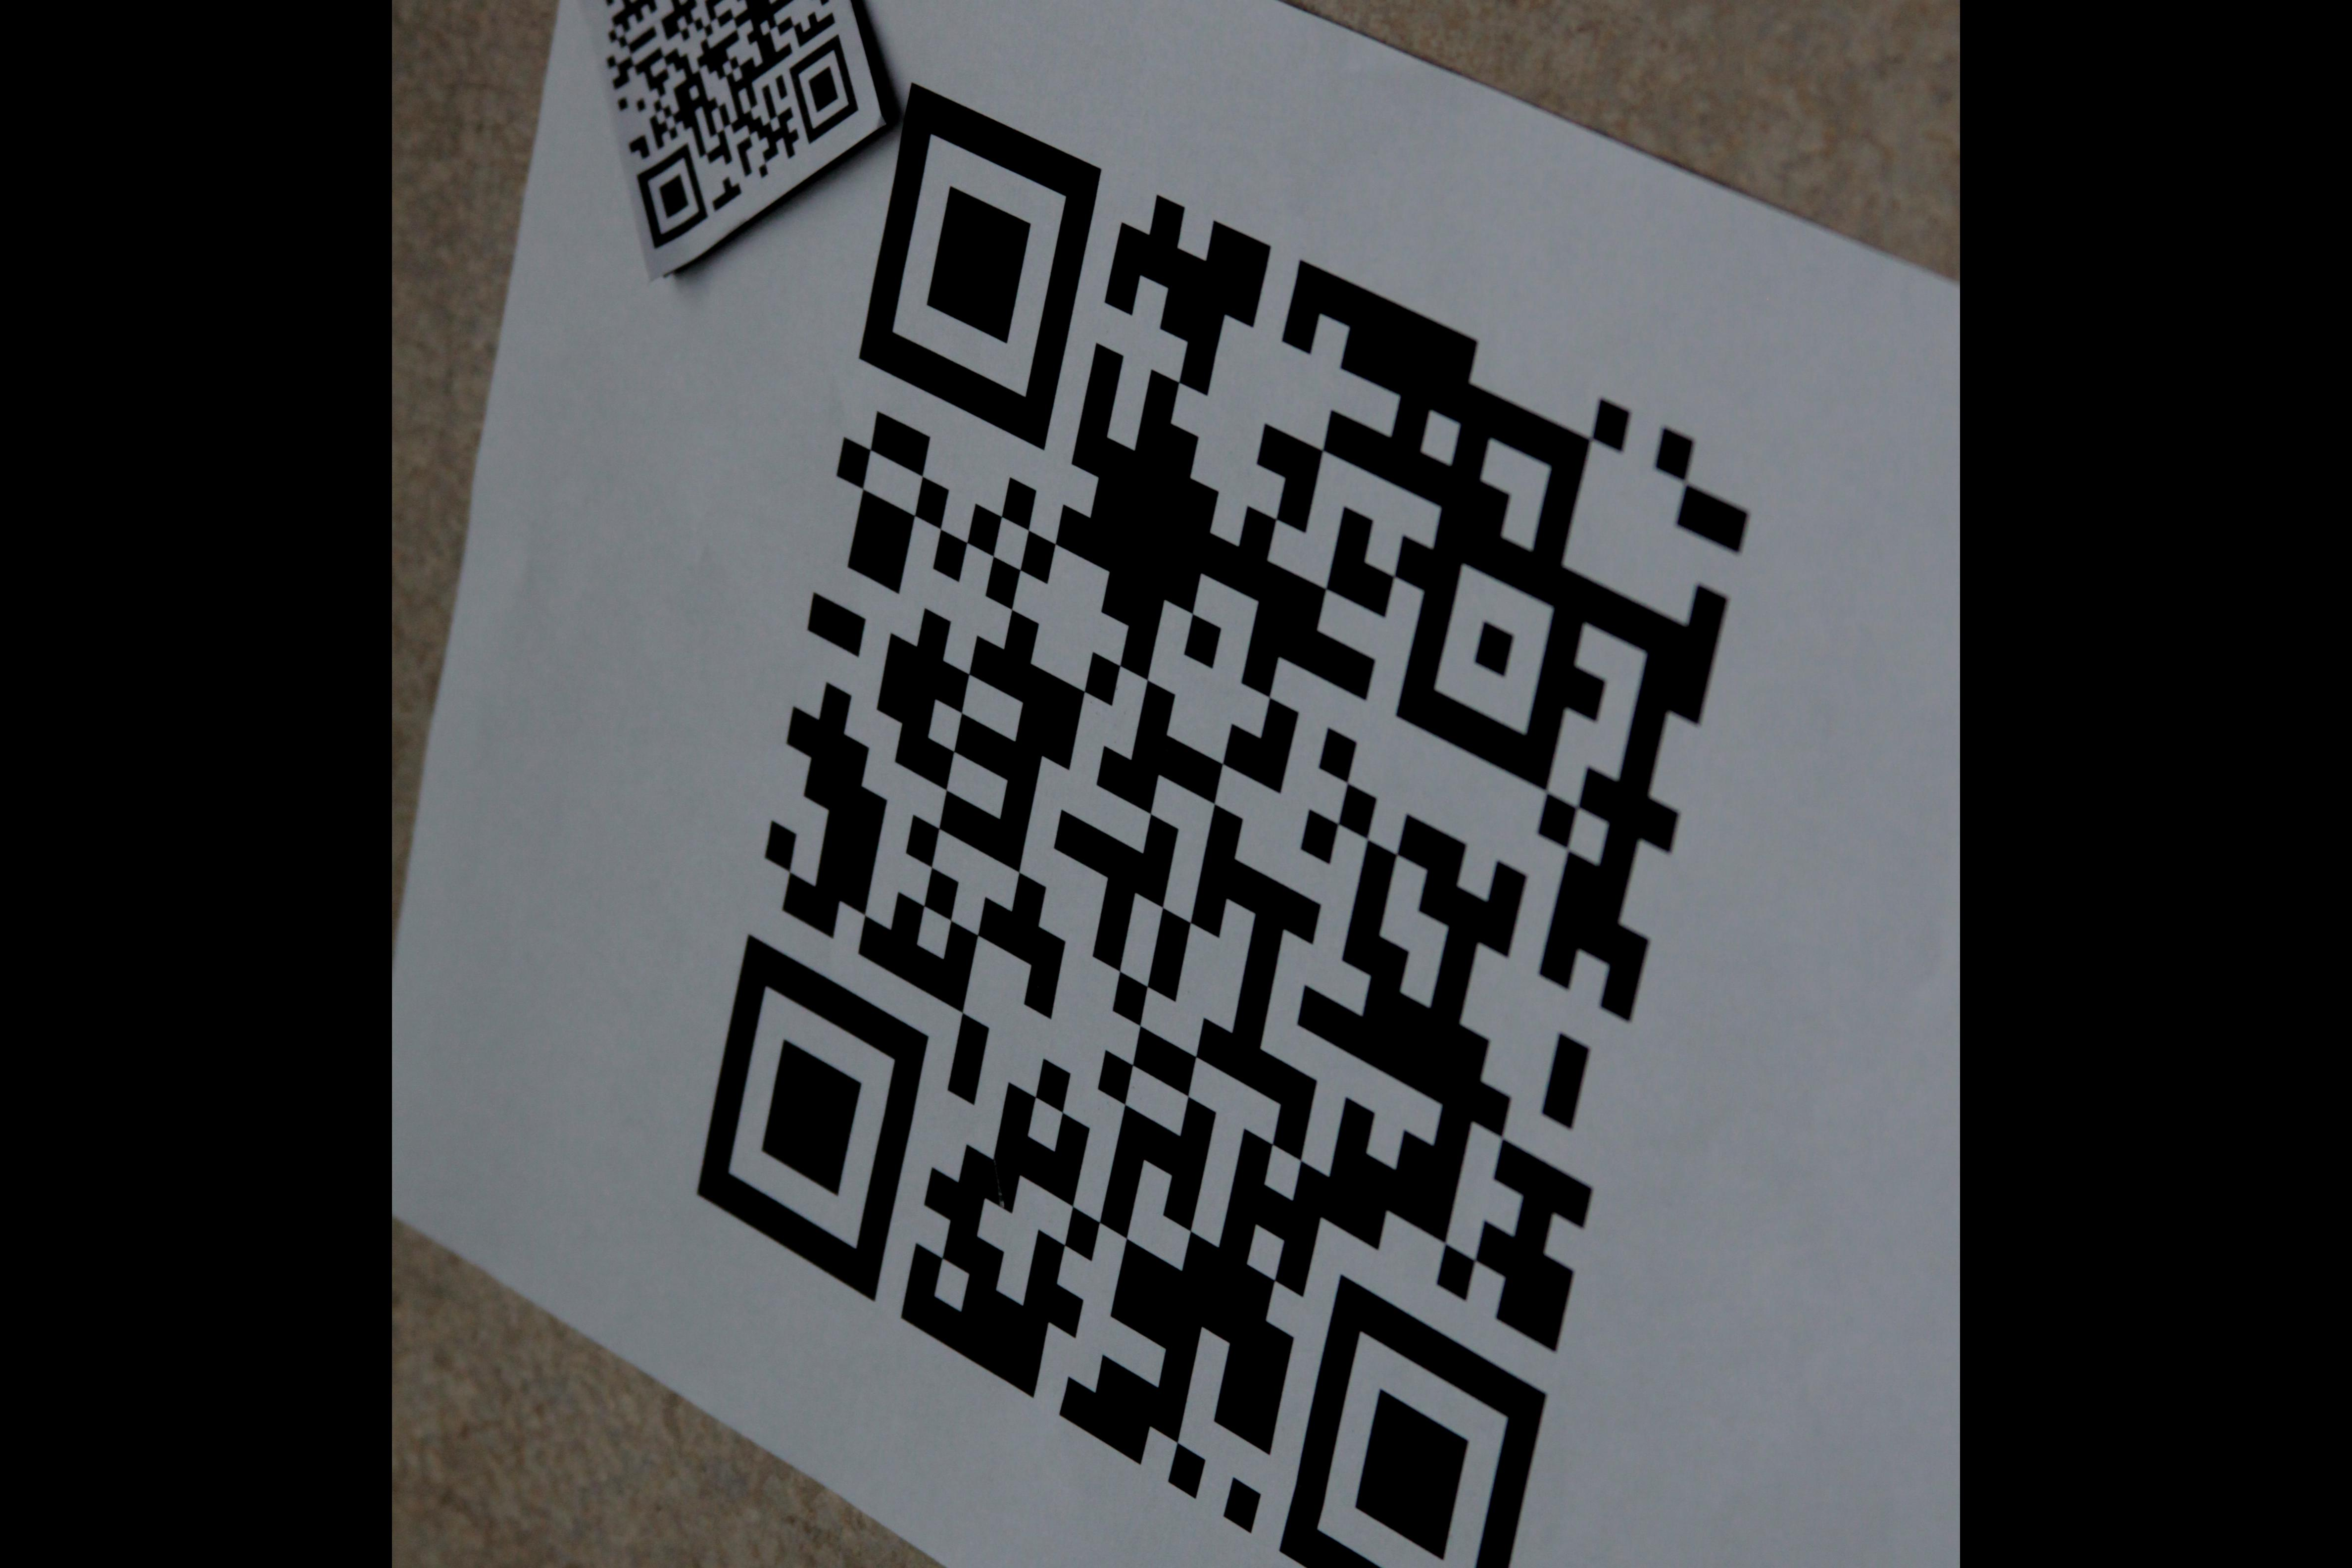QR: (700, 84, 1759, 1535)
